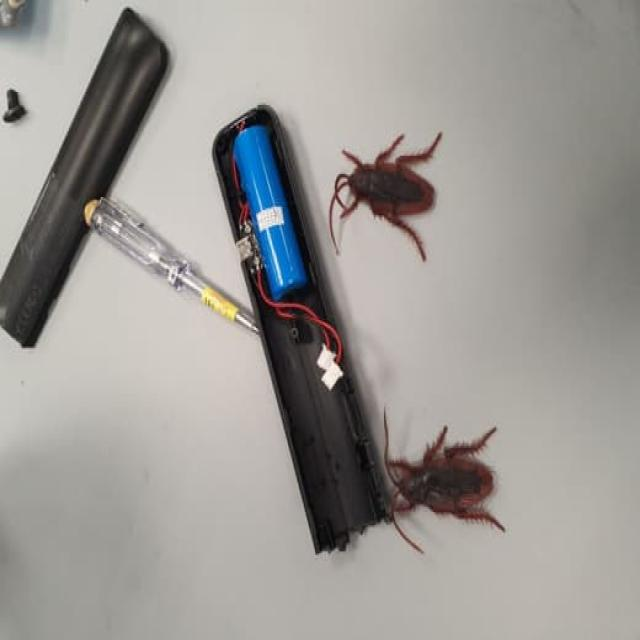Cockroach: (376, 401, 504, 552), (325, 128, 447, 259)
